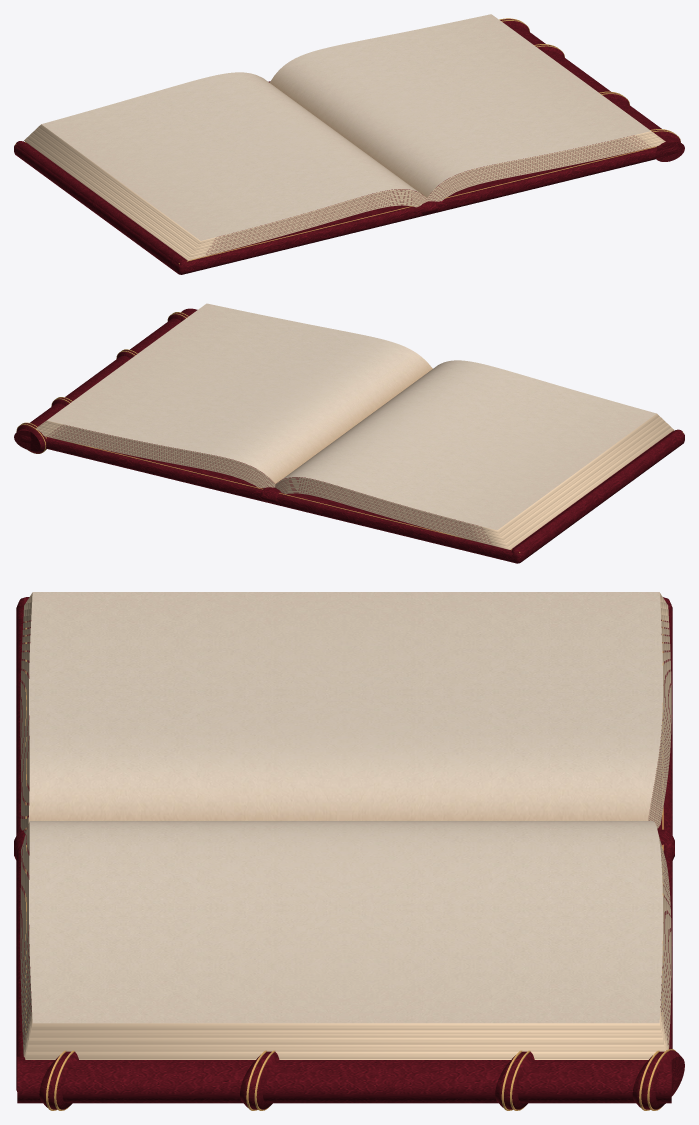
The model's file is open.glb.
3 renders of one model, top to bottom at view 1: azimuth 30°, elevation 25°; view 2: azimuth 150°, elevation 25°; view 3: azimuth 270°, elevation 25°, orthographic. The views are drawn at different scales.
Visible parts, largest first — view 1: RightPage, LeftPage, Oxblood leather, Cut edges, RightSignatures, Antique gold; view 2: RightPage, LeftPage, Oxblood leather, Cut edges, RightSignatures, Antique gold; view 3: LeftPage, RightPage, Oxblood leather, RightSignatures, Cut edges, Antique gold.
Boxes of the visible parts, x1,y1,x2,y2 form: RightPage: (270,14,650,197); LeftPage: (41,72,420,240); Oxblood leather: (14,19,684,274); Cut edges: (24,124,427,260); RightSignatures: (427,25,665,201); Antique gold: (15,18,680,264); RightPage: (47,303,432,483); LeftPage: (281,360,656,530); Oxblood leather: (14,308,684,563); Cut edges: (275,414,673,549); RightSignatures: (36,313,275,488); Antique gold: (16,312,683,552); LeftPage: (28,592,662,823); RightPage: (29,821,662,1022); Oxblood leather: (14,597,684,1109); RightSignatures: (20,822,671,1059); Cut edges: (20,592,671,833); Antique gold: (25,620,675,1110).
Bounding box in the file's own units: 7.05 × 0.5436 × 4.1.
Materials: 4 (2 with a texture image).
